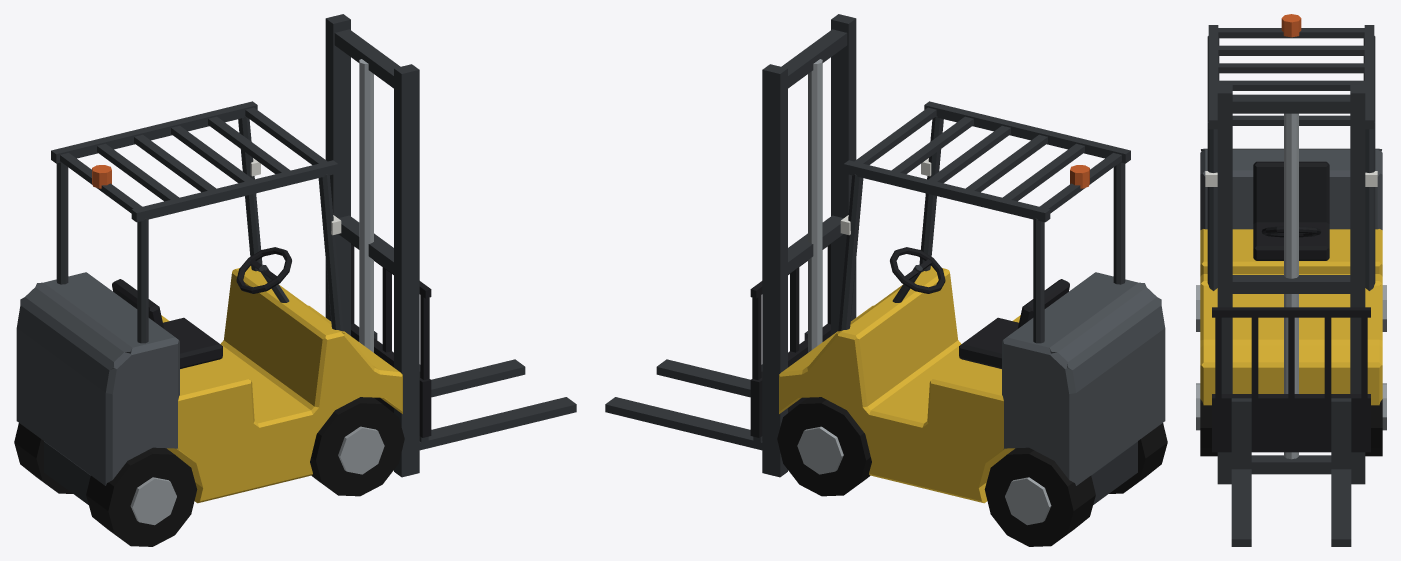
The model's file is chariot_elevateur.glb.
The picture shows the model from 3 angles, left to right: view 1: azimuth 30°, elevation 25°; view 2: azimuth 150°, elevation 25°; view 3: azimuth 270°, elevation 25°; orthographic projection. The views are drawn at different scales.
Parts seen in each view (by area): view 1: body, weight, rails, wheels_r, slats, guard, fork, ram, hubs_r, post_f, post_r, rail_bars (+7 smaller); view 2: body, weight, rails, wheels_l, slats, guard, fork, ram, hubs_l, post_f, post_r, rail_bars (+7 smaller); view 3: body, rails, slats, carriage, rail_bars, weight, seat_back, ram, fork, backrest, post_f, fork_up (+11 smaller).
Part boxes in pixels (x1=…): body: x1=161, y1=266, x2=402, y2=503; weight: x1=16, y1=272, x2=179, y2=485; rails: x1=325, y1=14, x2=419, y2=477; wheels_r: x1=86, y1=397, x2=404, y2=546; slats: x1=60, y1=107, x2=327, y2=213; guard: x1=51, y1=101, x2=338, y2=222; fork: x1=419, y1=359, x2=576, y2=450; ram: x1=359, y1=59, x2=373, y2=352; hubs_r: x1=130, y1=426, x2=384, y2=525; post_f: x1=238, y1=116, x2=343, y2=331; post_r: x1=56, y1=162, x2=148, y2=343; rail_bars: x1=334, y1=29, x2=400, y2=274; body: x1=779, y1=266, x2=1020, y2=503; weight: x1=1002, y1=272, x2=1165, y2=485; rails: x1=762, y1=14, x2=856, y2=477; wheels_l: x1=777, y1=397, x2=1095, y2=546; slats: x1=854, y1=107, x2=1121, y2=213; guard: x1=843, y1=101, x2=1130, y2=222; fork: x1=605, y1=359, x2=762, y2=450; ram: x1=808, y1=59, x2=822, y2=352; hubs_l: x1=797, y1=426, x2=1051, y2=525; post_f: x1=838, y1=116, x2=943, y2=331; post_r: x1=1033, y1=162, x2=1125, y2=343; rail_bars: x1=781, y1=29, x2=847, y2=274; body: x1=1200, y1=229, x2=1382, y2=405; rails: x1=1217, y1=84, x2=1365, y2=484; slats: x1=1218, y1=28, x2=1364, y2=125; carriage: x1=1212, y1=394, x2=1370, y2=452; rail_bars: x1=1232, y1=94, x2=1350, y2=474; weight: x1=1200, y1=148, x2=1382, y2=229; seat_back: x1=1253, y1=161, x2=1329, y2=223; ram: x1=1284, y1=113, x2=1298, y2=459; fork: x1=1231, y1=469, x2=1351, y2=546; backrest: x1=1215, y1=311, x2=1367, y2=400; post_f: x1=1207, y1=121, x2=1375, y2=290; fork_up: x1=1231, y1=398, x2=1351, y2=469.
Size of the model in its own units: 3.27 by 2.6 by 1.15.
Materials: 8 (8 with a texture image).
